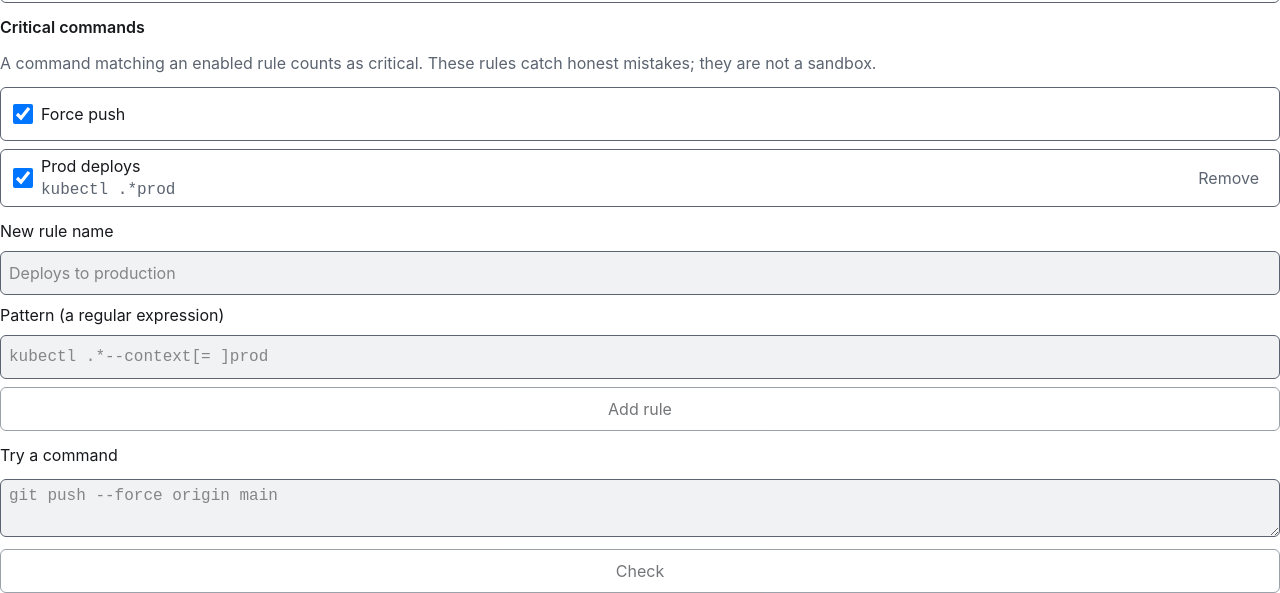
Test: AccessModes › checks a command against the rules
(page scrolled)
In the text box labelled "Try a command": (640, 508) [0, 479, 1279, 537], type "git push -f"
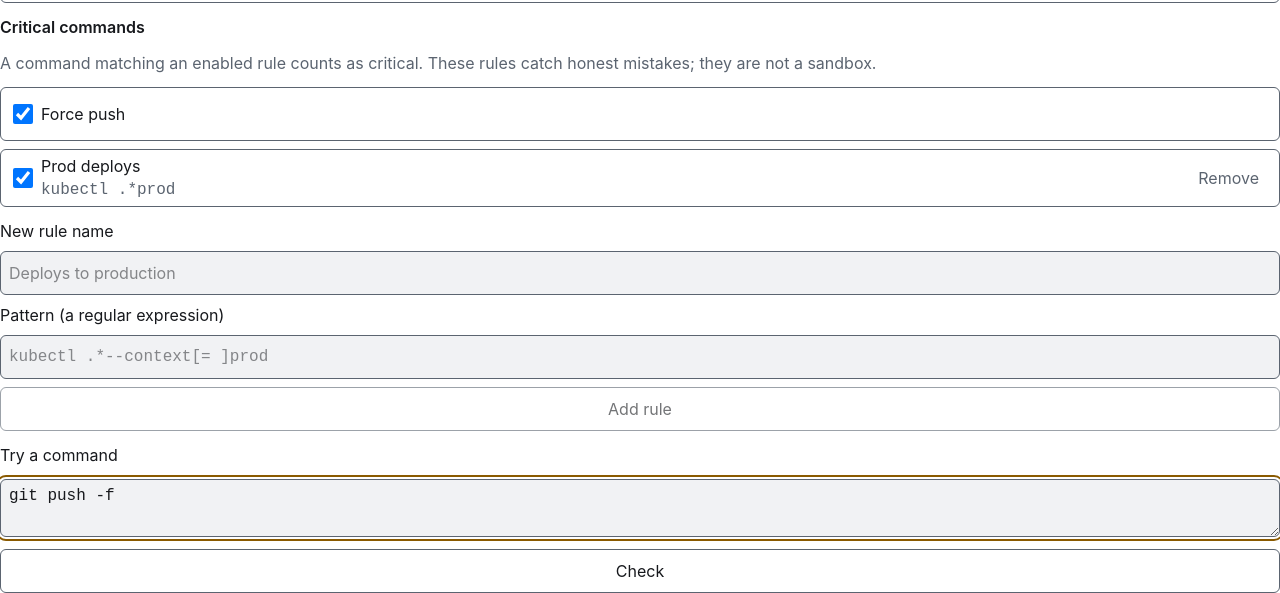
Click the button "Check": (640, 571) [0, 549, 1279, 592]
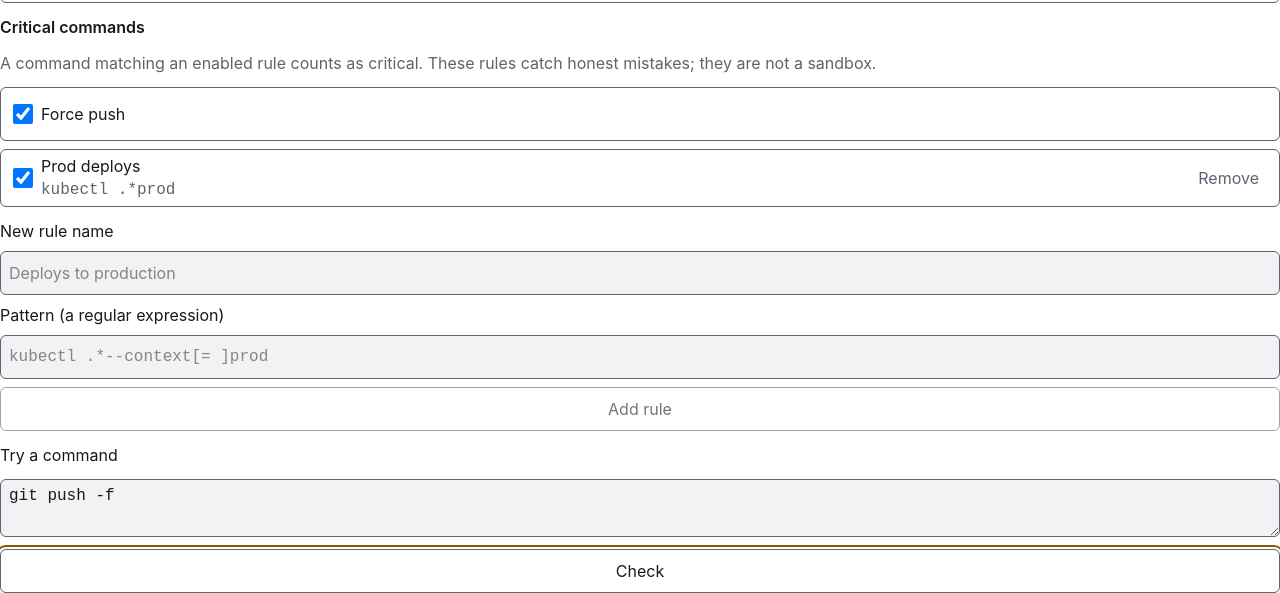
In the text box labelled "Try a command": (640, 508) [0, 479, 1279, 537], type "x"
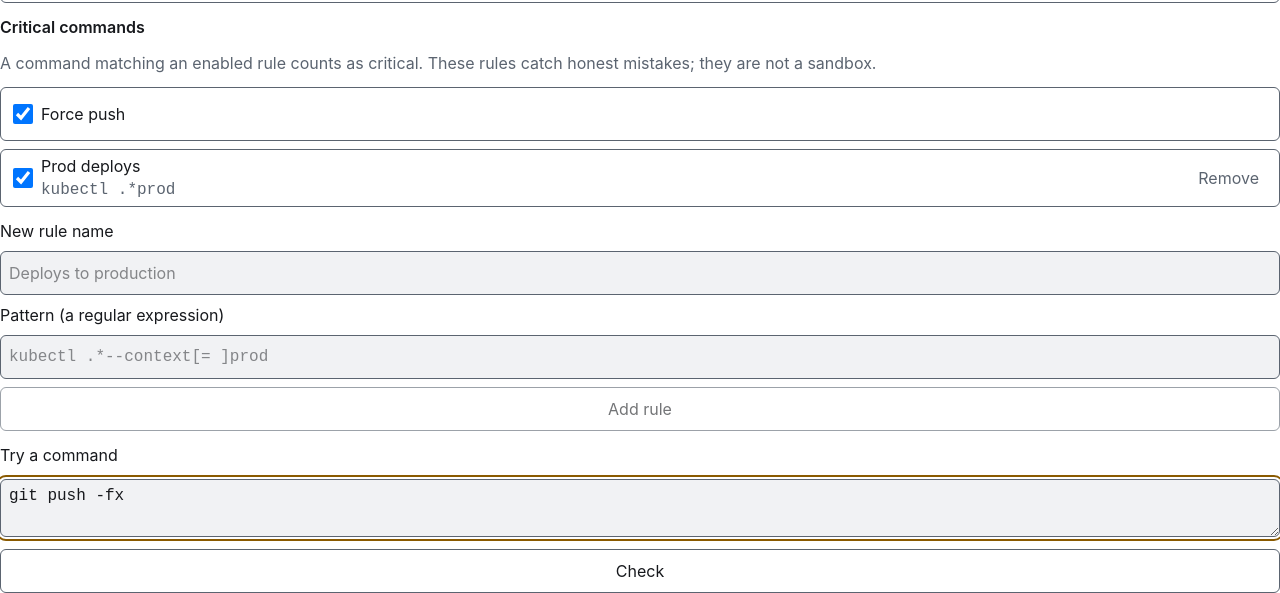
Click the button "Check": (640, 571) [0, 549, 1279, 592]
(page scrolled)
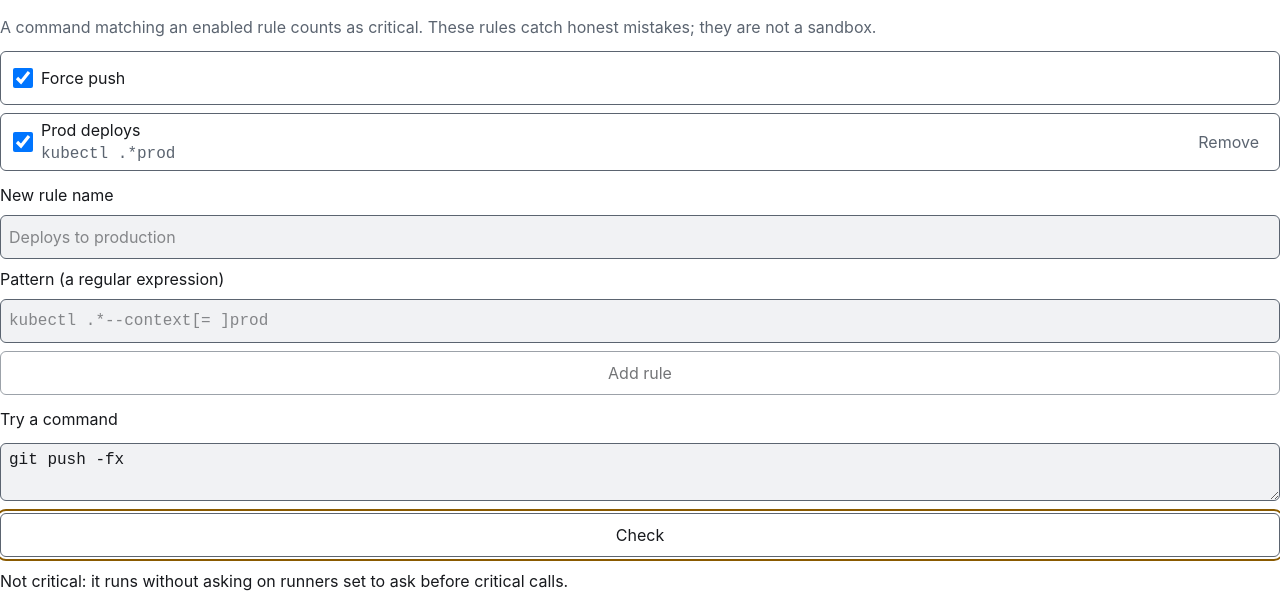
Check: the message shows "Not critical", box [0, 571, 568, 591]
